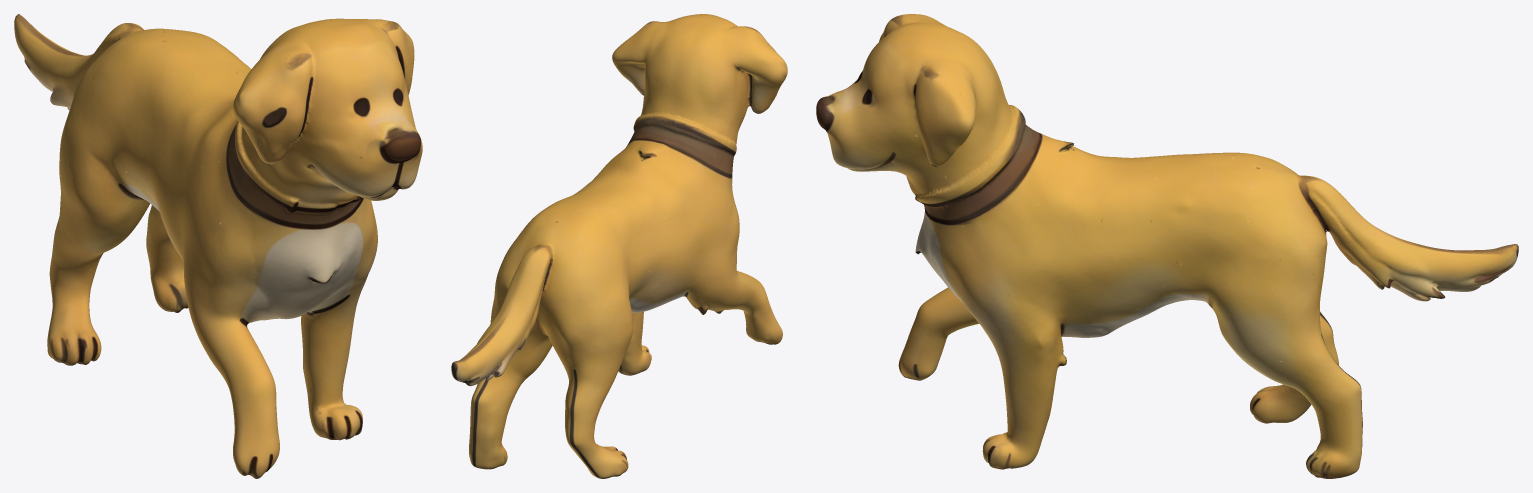
File: pet_dog_walk_1.glb
The picture shows the model from 3 angles, left to right: view 1: azimuth 30°, elevation 25°; view 2: azimuth 150°, elevation 25°; view 3: azimuth 270°, elevation 25°; orthographic projection. The views are drawn at different scales.
Size of the model in its own units: 0.6119 by 1.3 by 2.
1 material, 1 textured.
